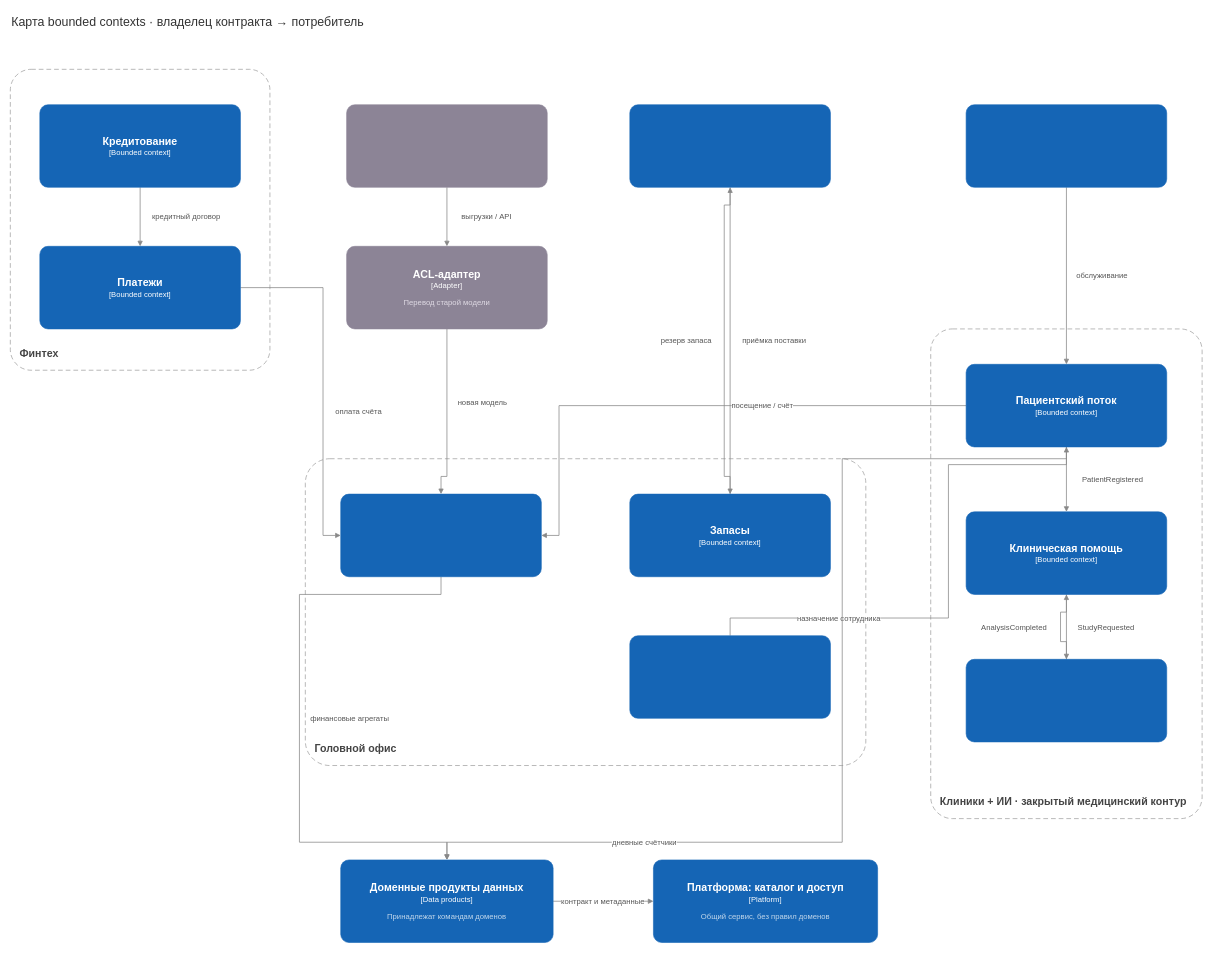
Image size: 1212x953. Some labels were removed from this diagram. Each missing label, with the centre of its shape:
Camel / DWH [Legacy system] Только на переходе: the point at 446,145
Выполнение ИИ-исследования [Bounded context]: the point at 1066,700
Персонал [Bounded context]: the point at 729,676
Управленческие финансы [Bounded context]: the point at 440,535
Фарма: поставки [Bounded context]: the point at 729,145
Электроника: оборудование [Bounded context]: the point at 1066,145
